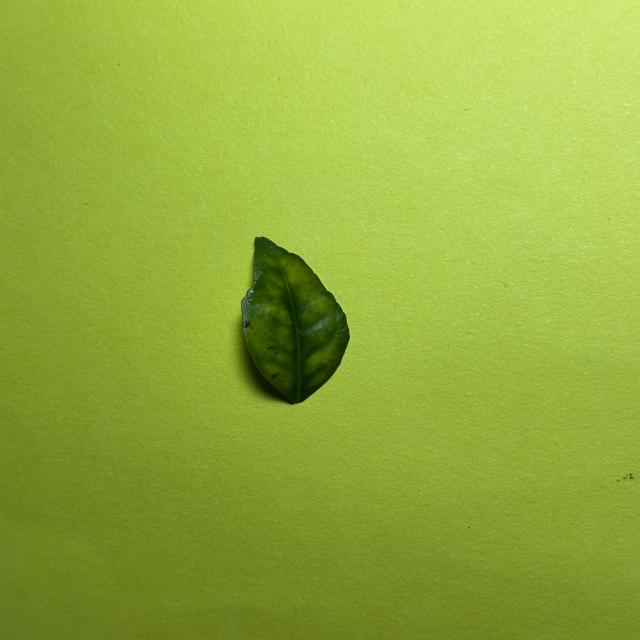greening: (241, 237, 349, 403)
